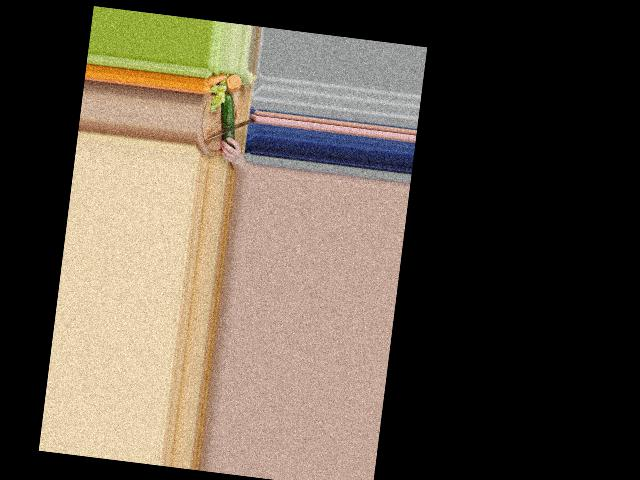cucumber: (216, 92, 240, 147)
